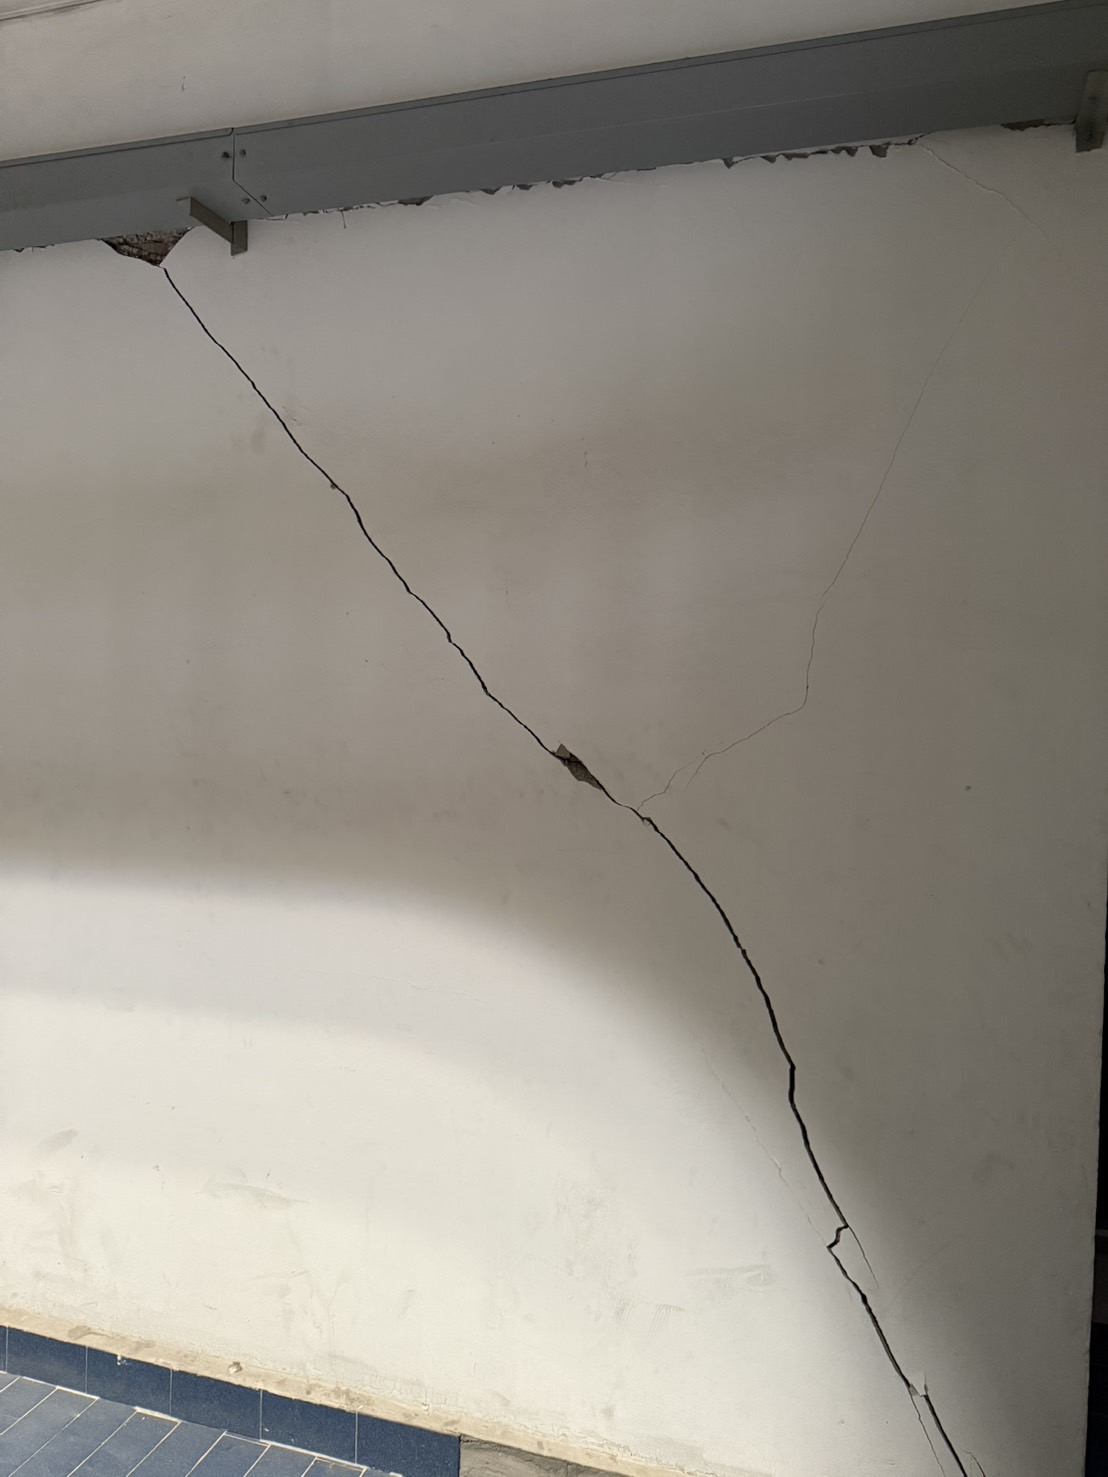Medium: (159, 283, 979, 1383)
